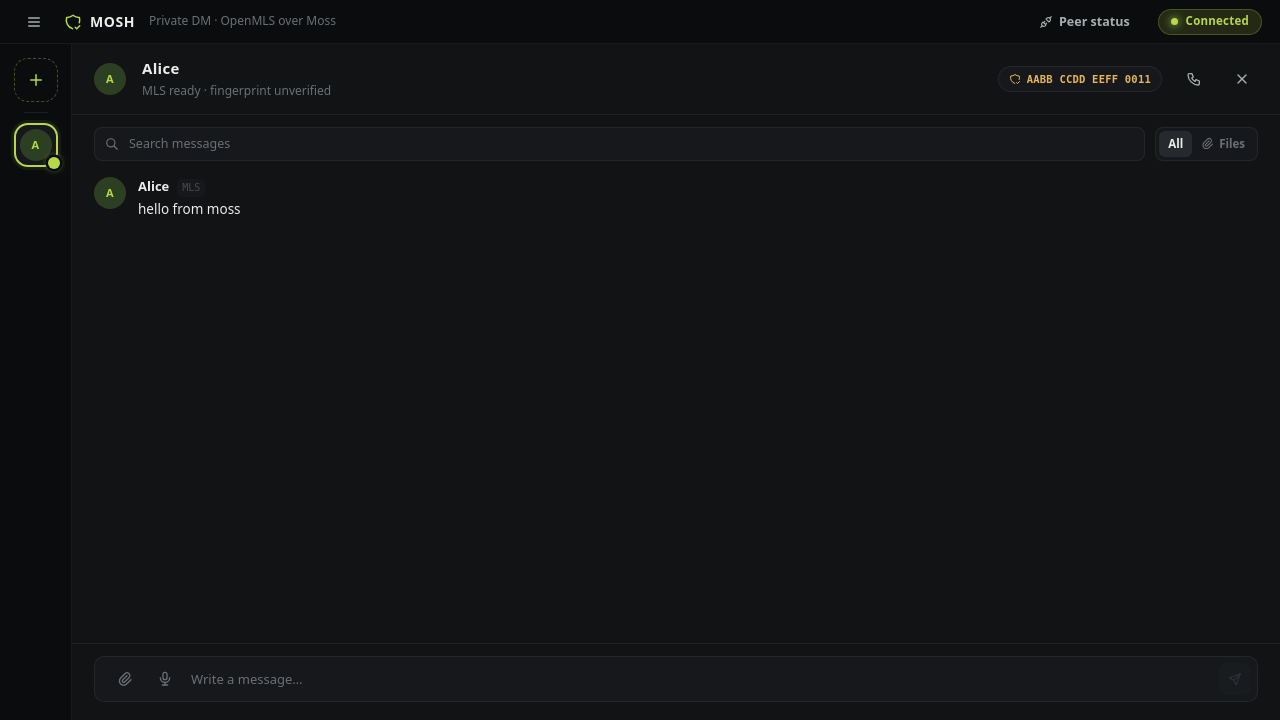
Test case: PrivateDmScreen messaging › surfaces message send failures in the active chat
Check: the text "hello from moss" is shown, box [138,200,241,218]
Type "hello" into the field labelled "message" at {"x": 700, "y": 679}, box [189,663,1211,695]
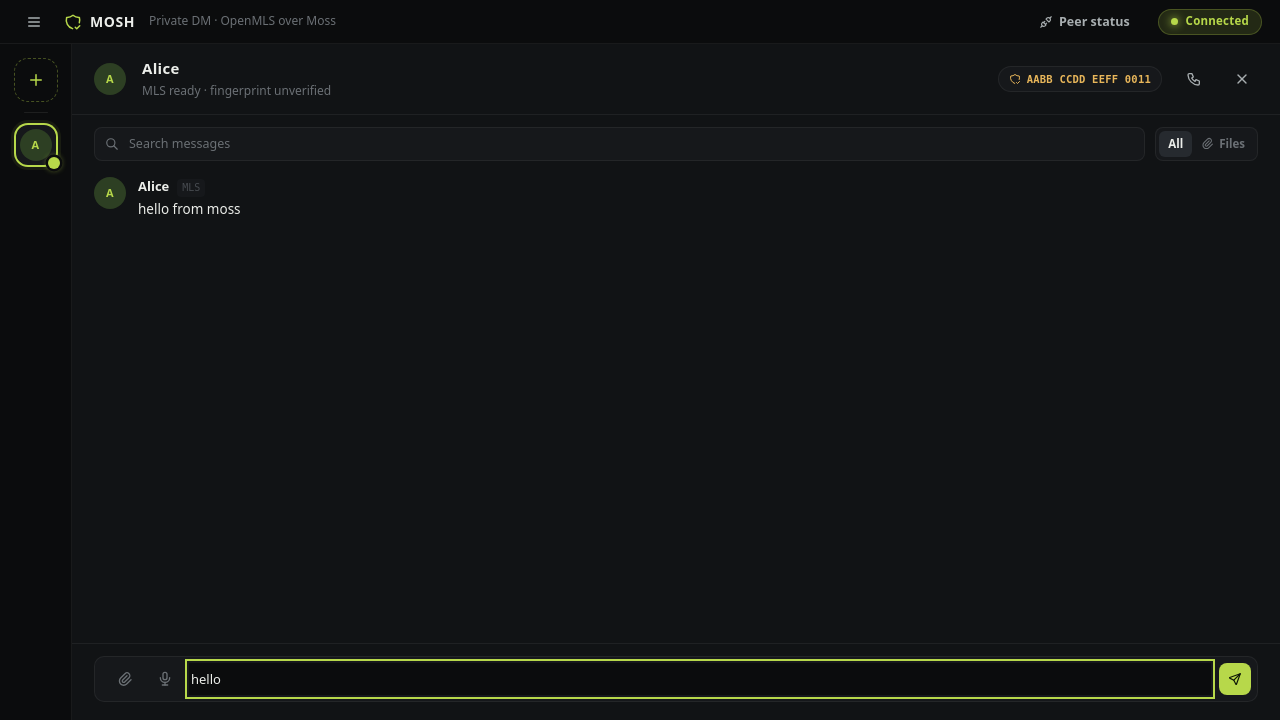
Click the button named "Send" at {"x": 1235, "y": 679}, box [1219,663,1251,695]
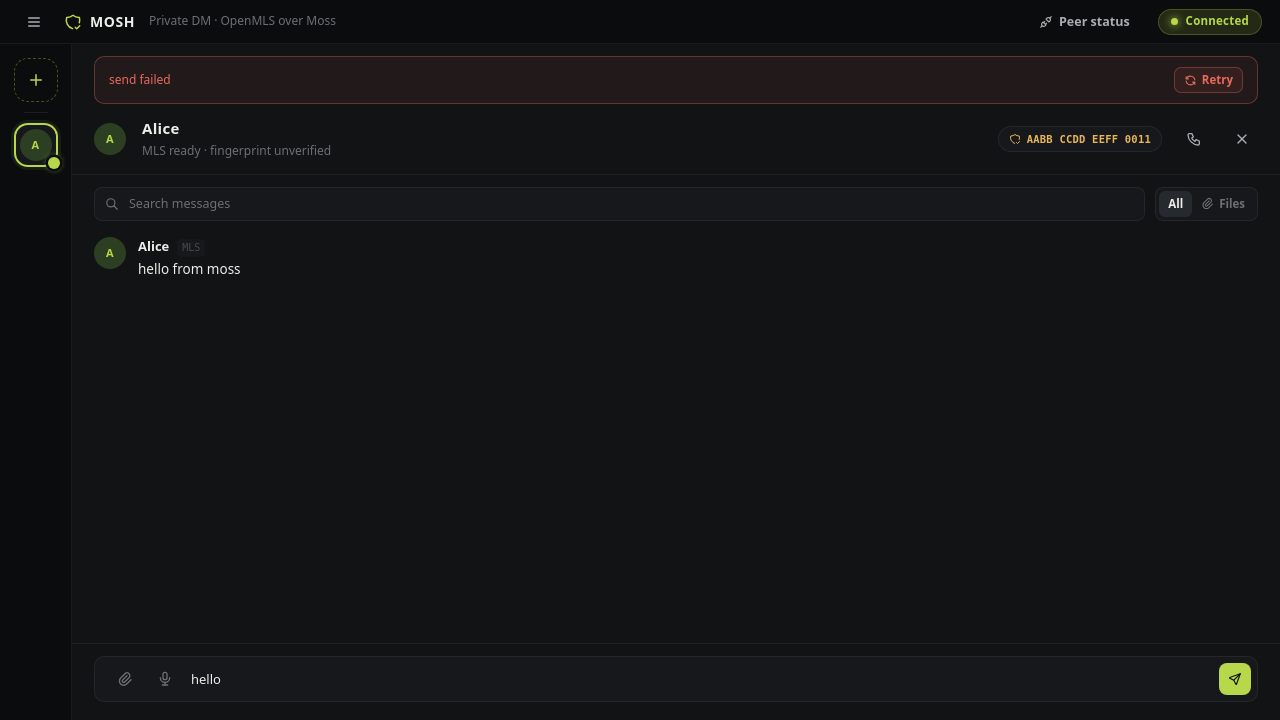
Check: the message shows "send failed", box [109,71,171,88]
Check: the button "Retry" is shown, box [1174,67,1243,93]
